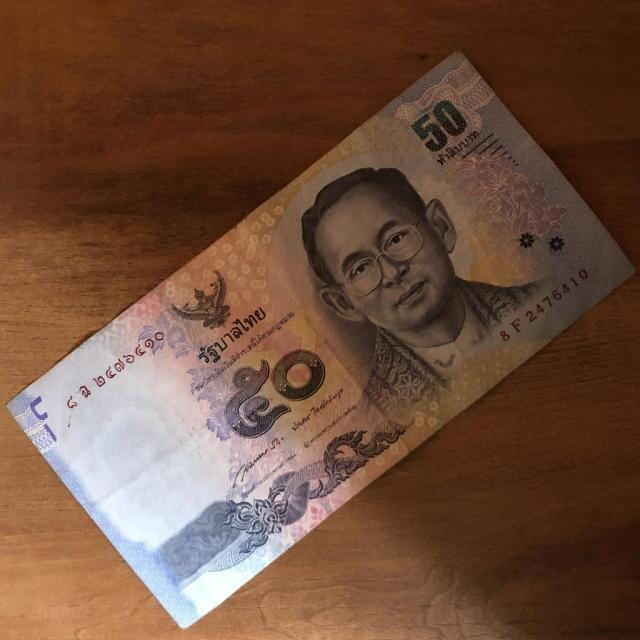THAI50: (8, 54, 632, 626)
